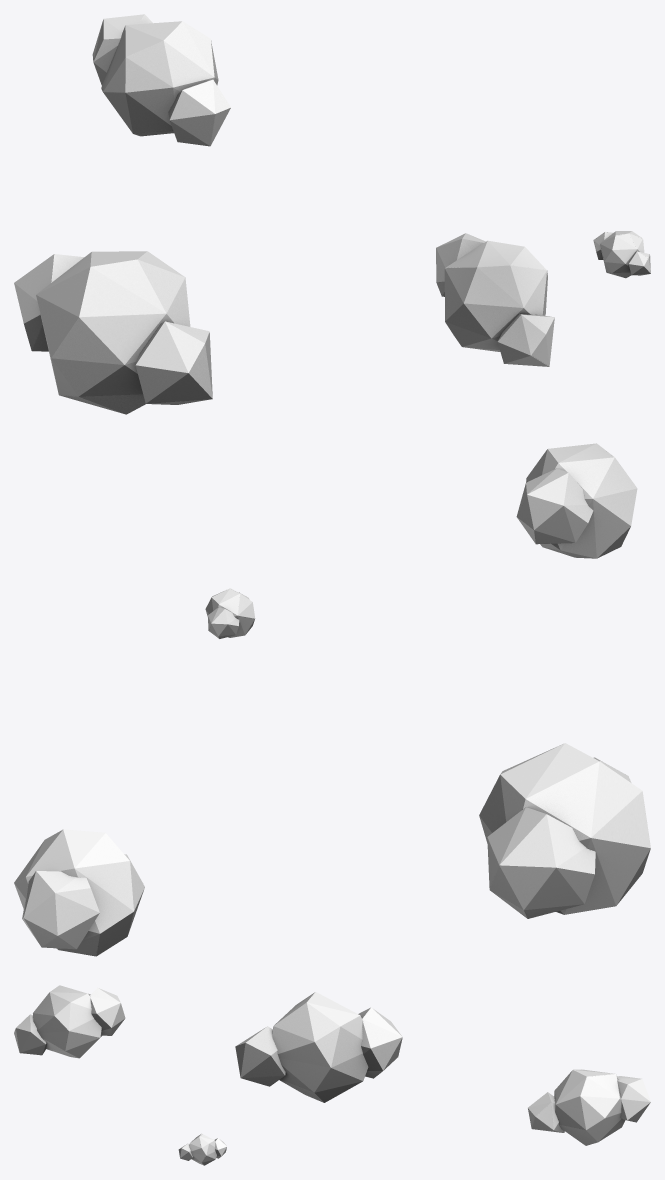
File: clouds.glb
3 renders of one model, top to bottom at view 1: azimuth 30°, elevation 25°; view 2: azimuth 150°, elevation 25°; view 3: azimuth 270°, elevation 25°, orthographic. The views are drawn at different scales.
Visible parts, largest first — view 1: cloud 4, cloud 3, cloud 1, cloud 2; view 2: cloud 4, cloud 3, cloud 1, cloud 2; view 3: cloud 4, cloud 3, cloud 1, cloud 2.
Boxes of the visible parts, x1,y1,x2,y2 form: cloud 4: [14, 251, 212, 414]; cloud 3: [92, 14, 230, 146]; cloud 1: [436, 233, 554, 366]; cloud 2: [593, 231, 650, 278]; cloud 4: [479, 743, 650, 918]; cloud 3: [14, 829, 144, 956]; cloud 1: [516, 443, 637, 558]; cloud 2: [205, 588, 255, 638]; cloud 4: [235, 992, 402, 1102]; cloud 3: [528, 1069, 650, 1145]; cloud 1: [14, 985, 125, 1058]; cloud 2: [178, 1133, 226, 1165].
Size of the model in its own units: 3.64 by 1.72 by 6.18.
Materials: 4 (4 with a texture image).
